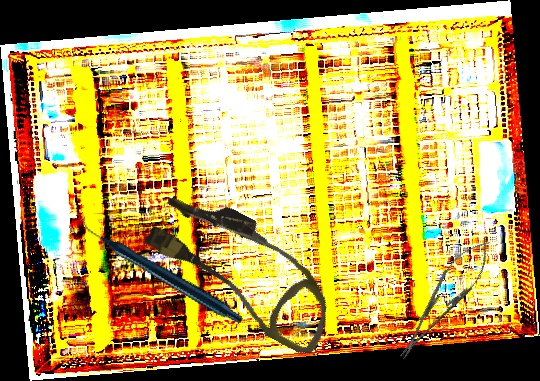Cannula: (132, 179, 355, 359)
Handpiece: (81, 174, 244, 364)
Needle Holder: (387, 229, 501, 369)
